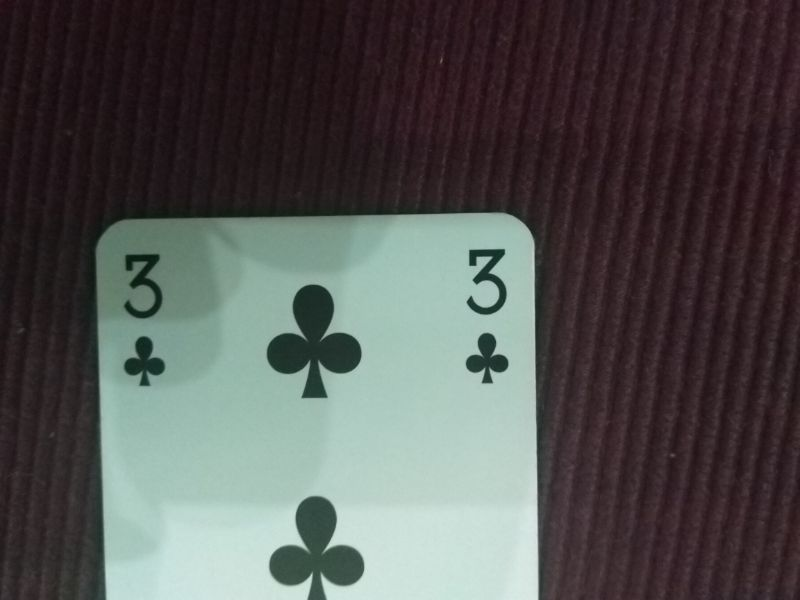3c: (117, 248, 174, 396), (460, 242, 514, 390)
